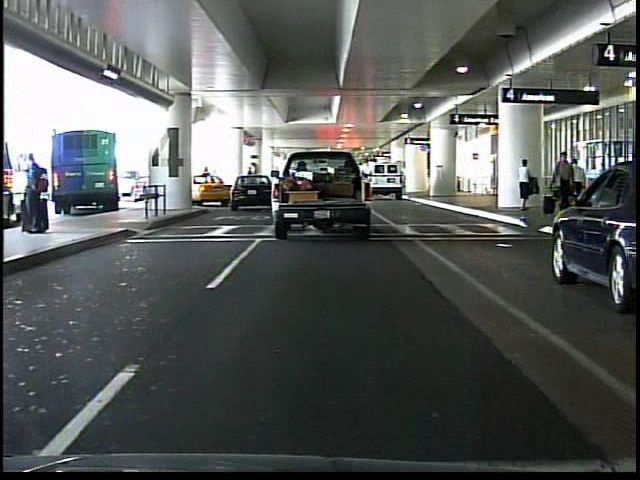person: (19, 142, 55, 239), (552, 147, 580, 209), (564, 156, 587, 221), (513, 155, 536, 213)
